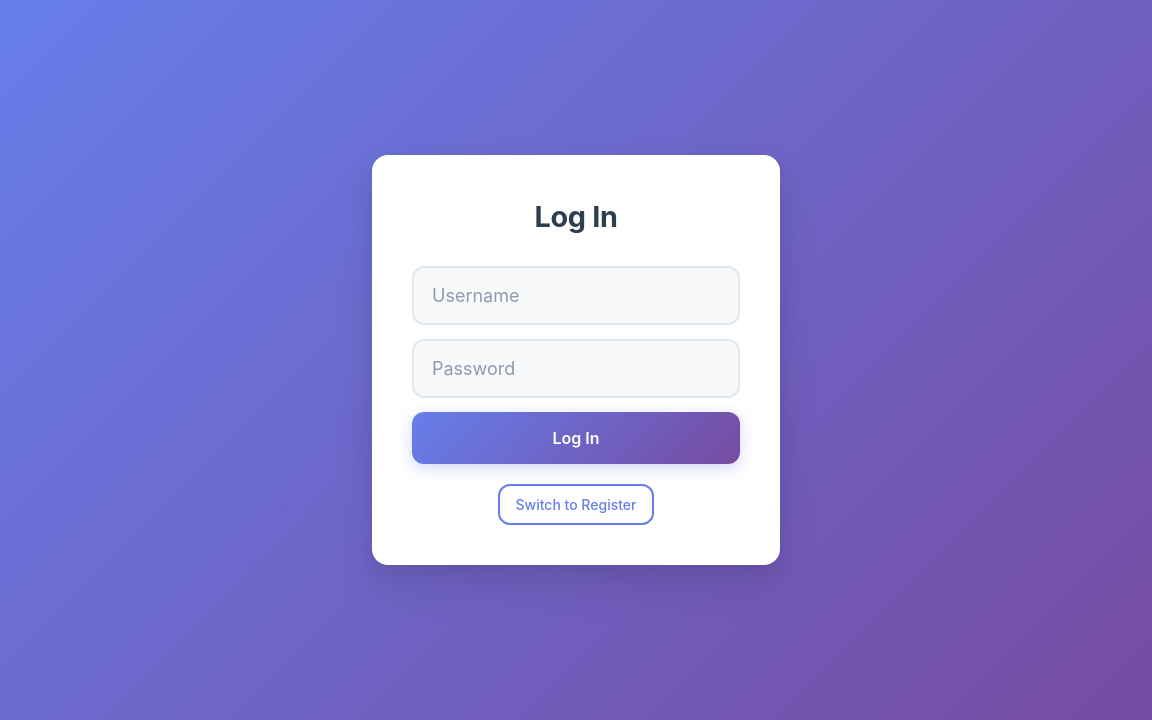
Test: App Component › deletes a todo
Type "alice" into the field with placeholder "Username" at (576, 296), box [412,266,740,325]
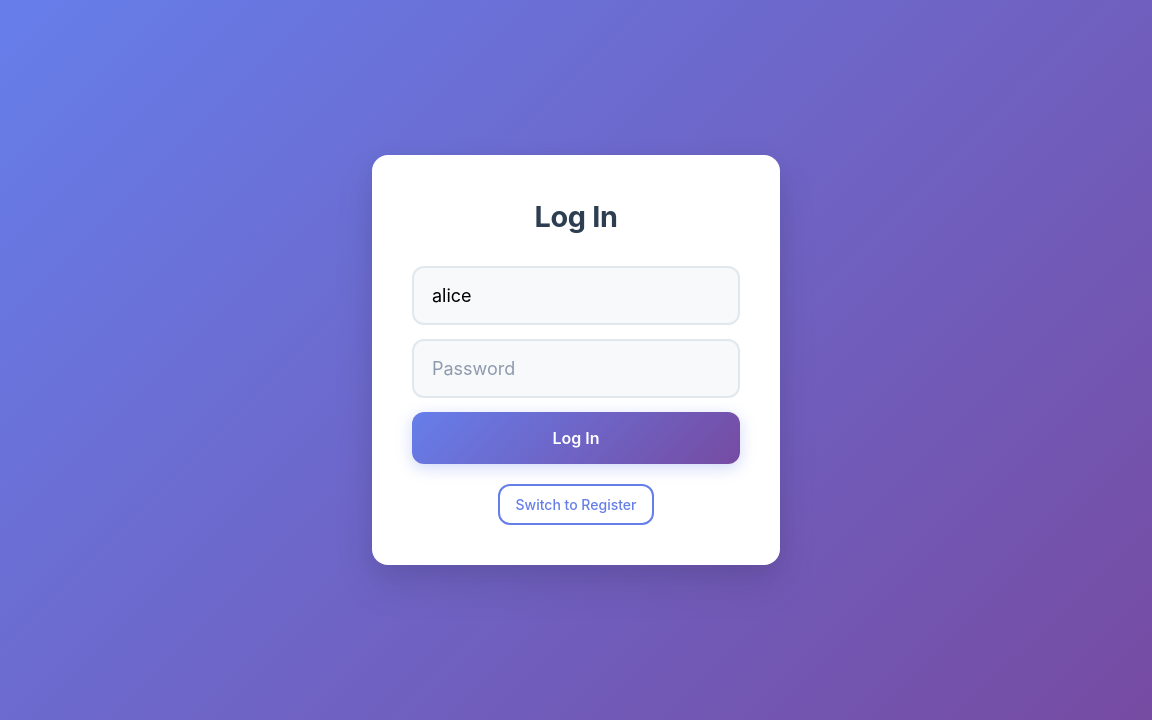
Type "password123" into the password field with placeholder "Password" at (576, 369), box [412,339,740,398]
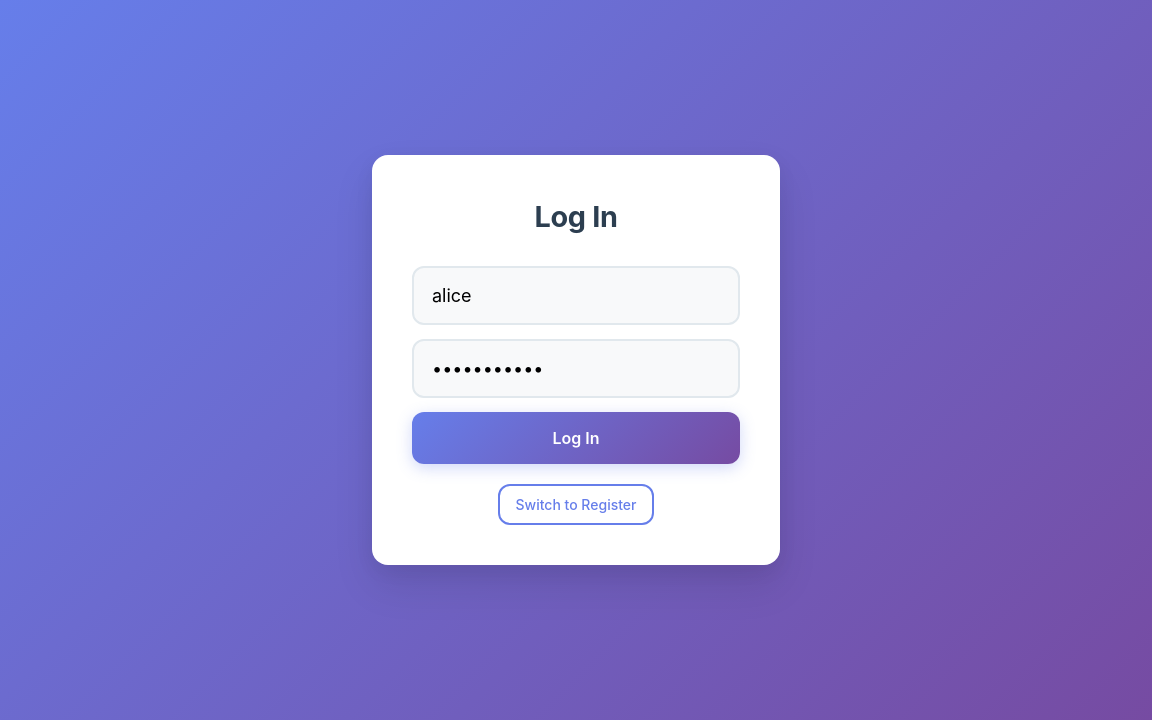
Submit the form "Log In", box [412,266,740,464]
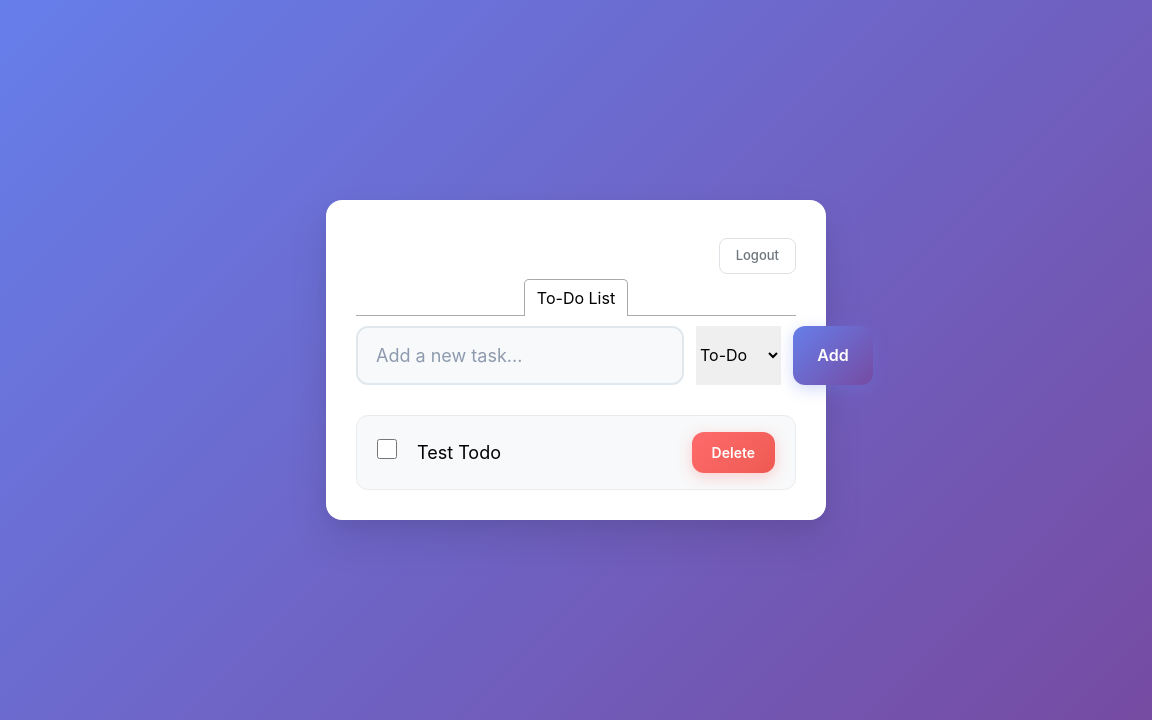
Click the button "Delete" at (733, 452), box [692,432,775,473]
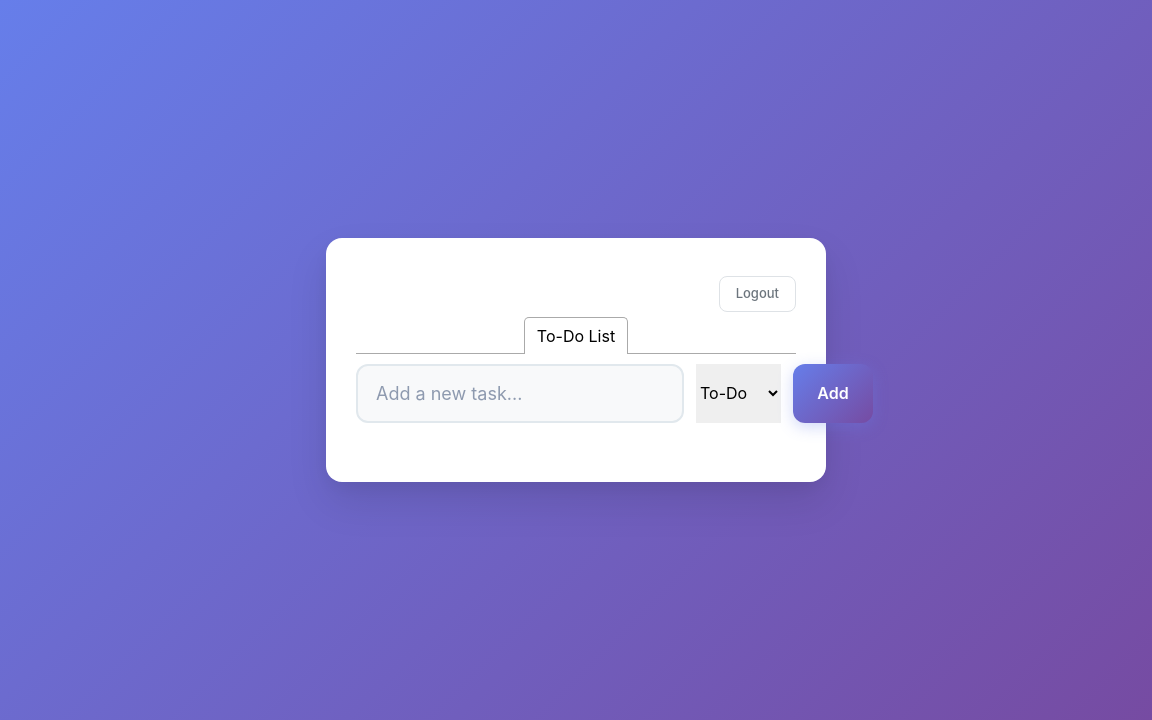
Expected: the text "Test Todo" is gone
